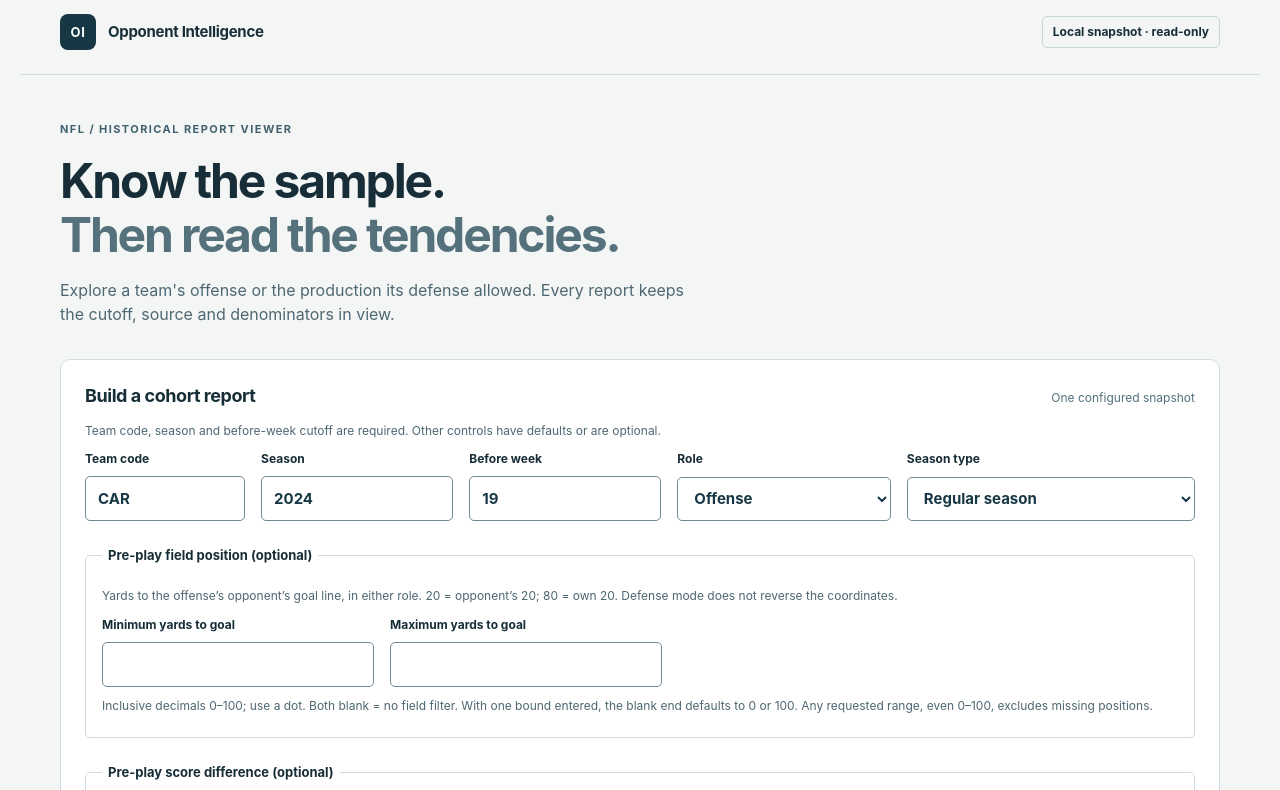
Test: field-position controls and display › shows returned bounds, separate ledgers, missing/empty states and warnings: field_defense_comparison
The image size is (1280, 790).
Replace the text in the field labelled "Team code" with "ATL" at (165, 499), box left=85, top=476, right=245, bottom=521
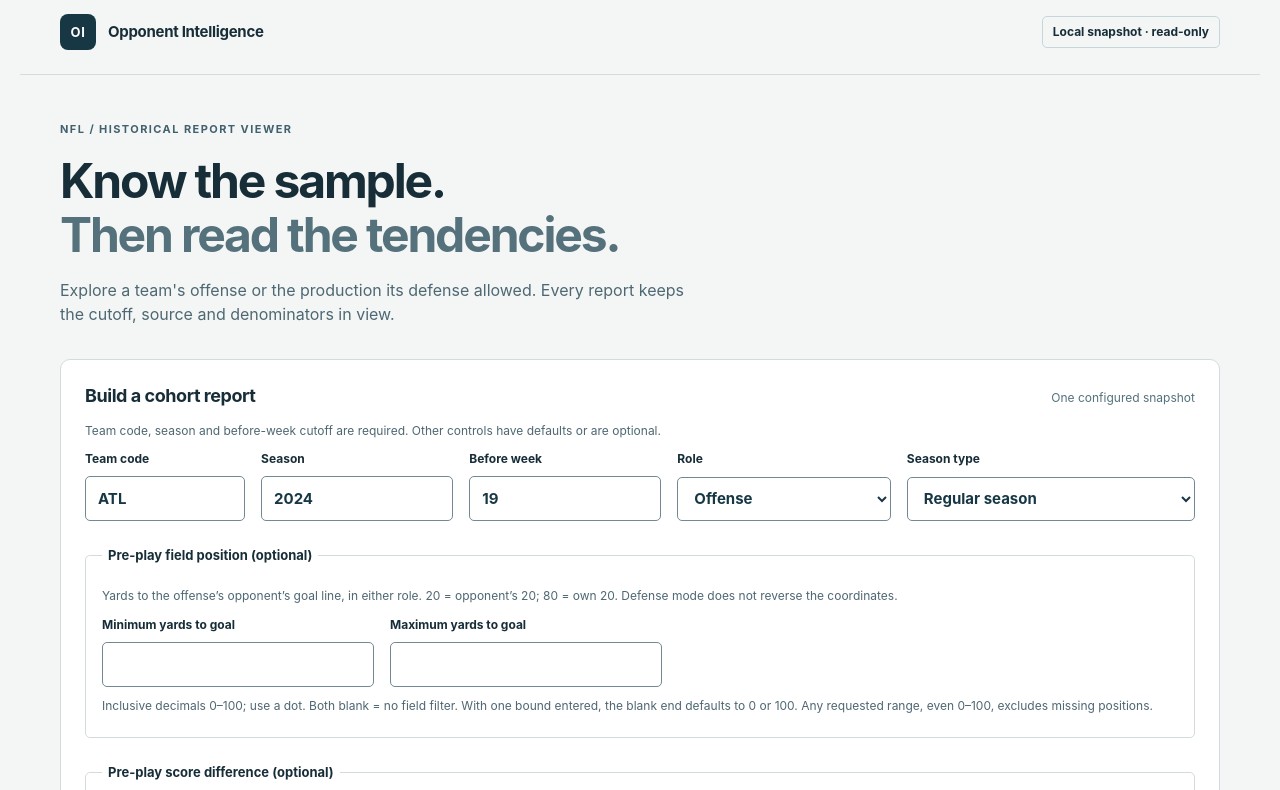
Replace the text in the number field labelled "Before week" with "3" at (565, 499), box left=469, top=476, right=661, bottom=521
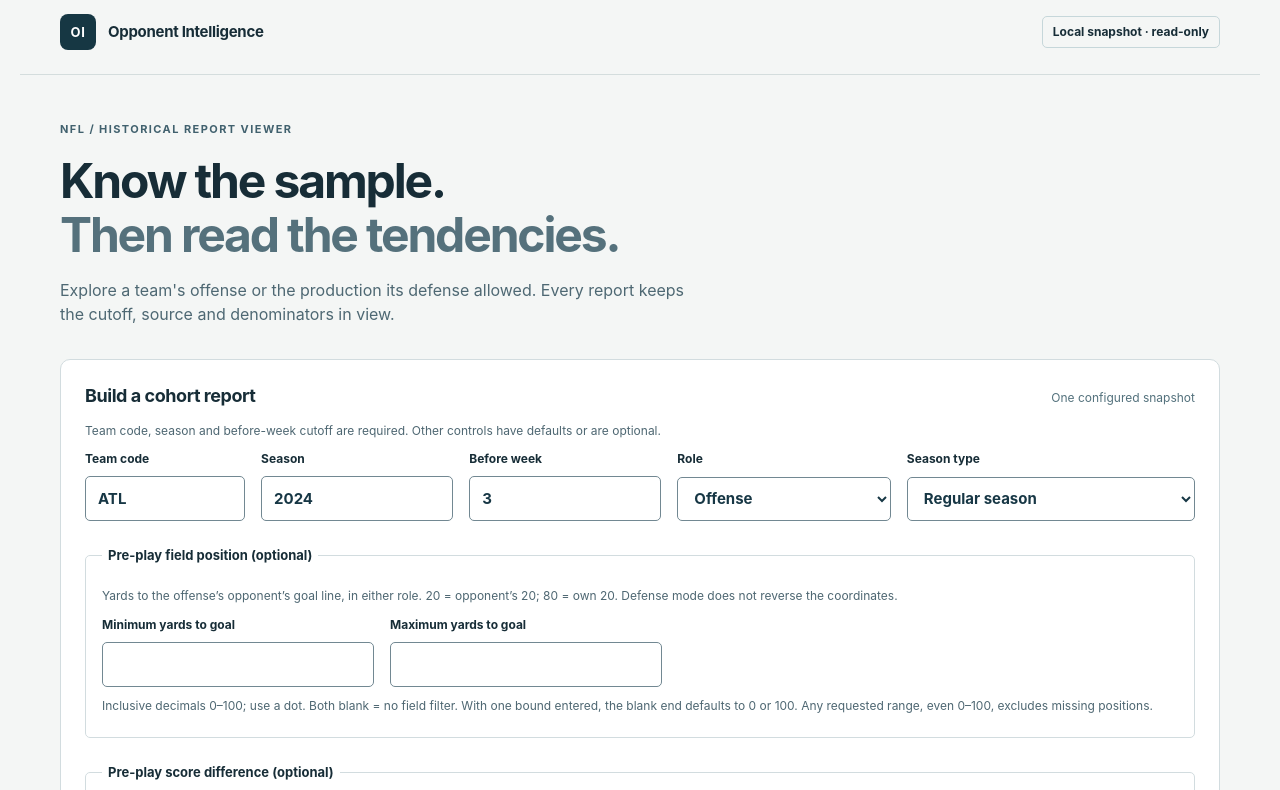
Select "Defense" in the dropdown labelled "Role" at (784, 499), box left=677, top=476, right=891, bottom=521
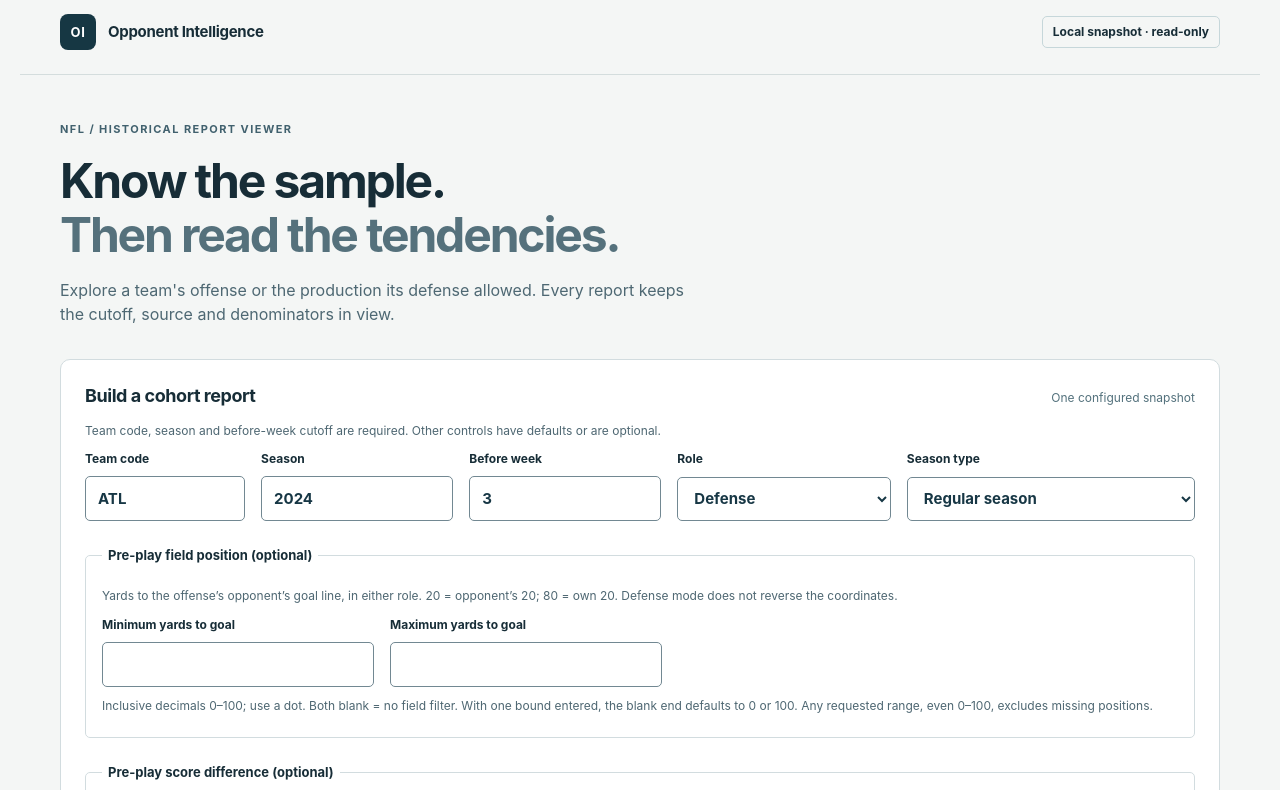
Type "20" into the field labelled "Maximum yards to goal" at (526, 664), box left=390, top=642, right=662, bottom=687
(page scrolled)
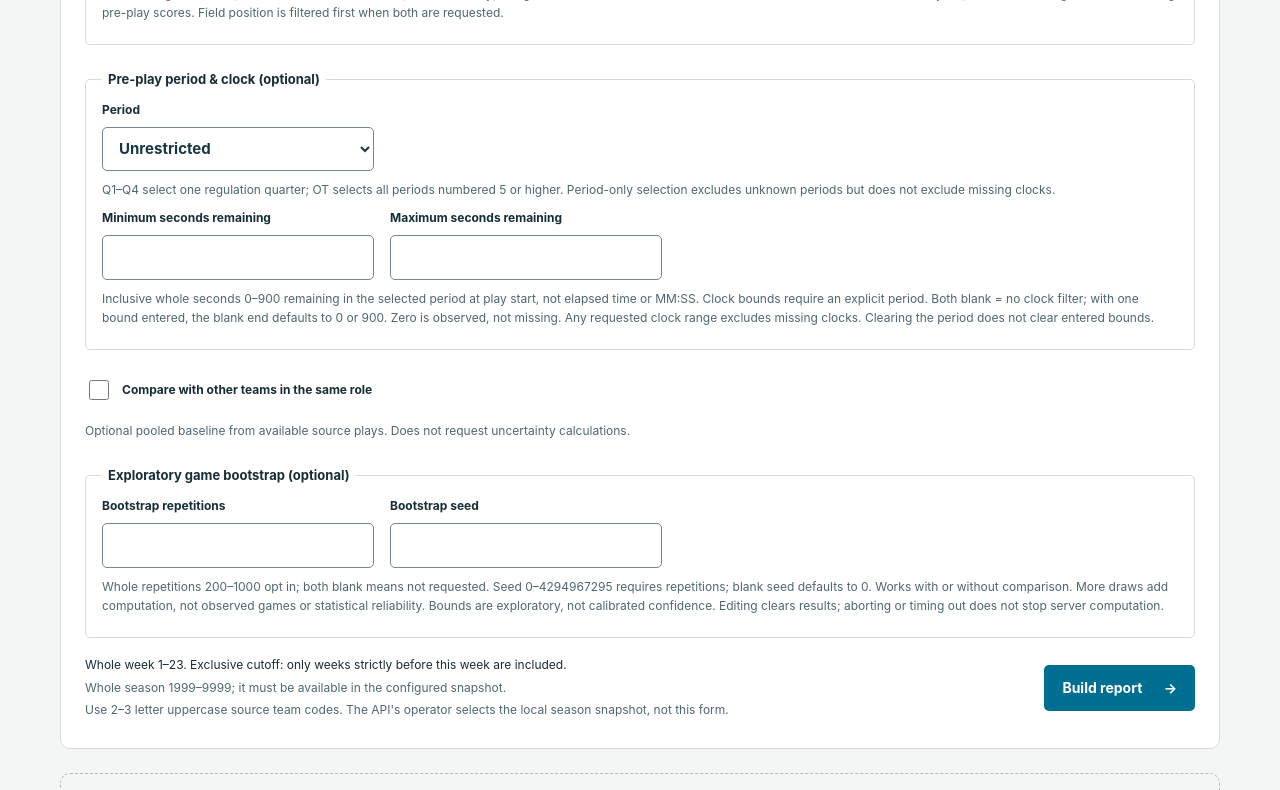
Click the checkbox at (99, 390), box left=89, top=380, right=109, bottom=400
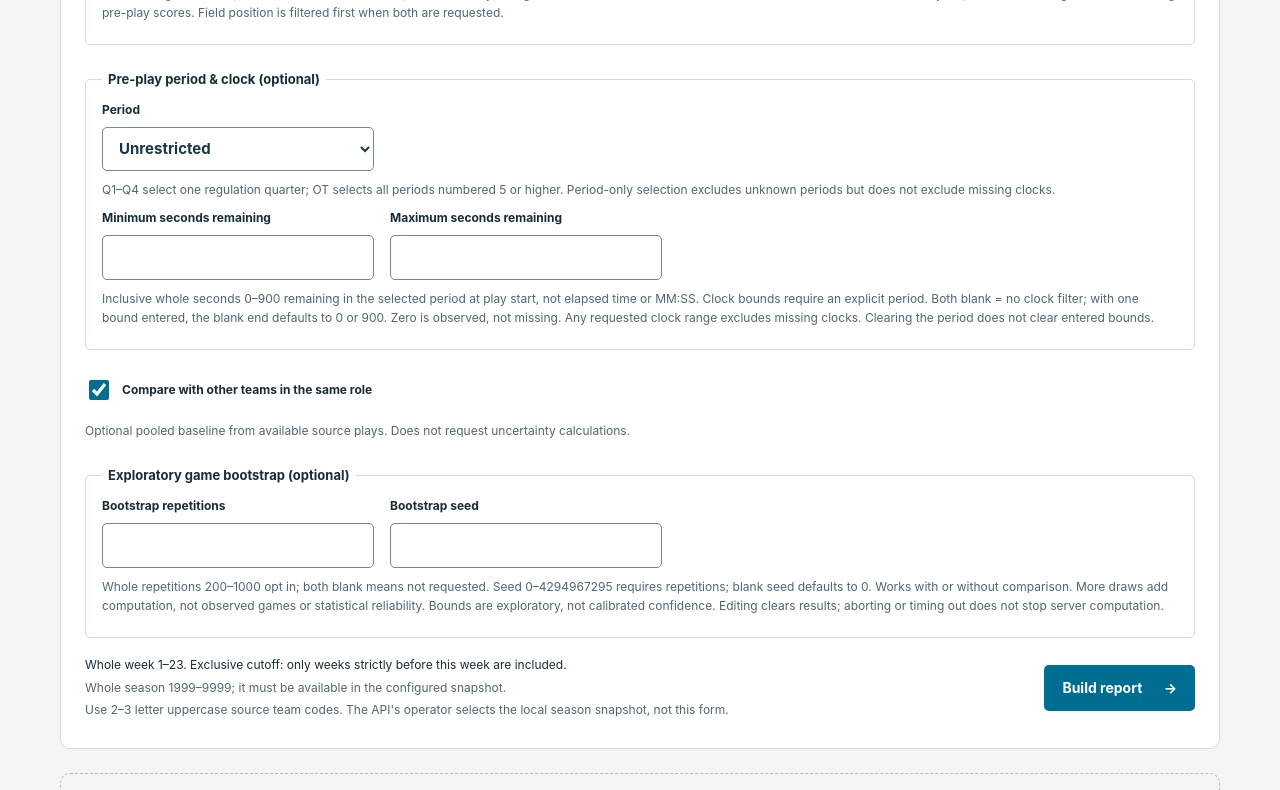
Click the button "Build report →" at (1120, 688), box left=1044, top=665, right=1195, bottom=711
(page scrolled)
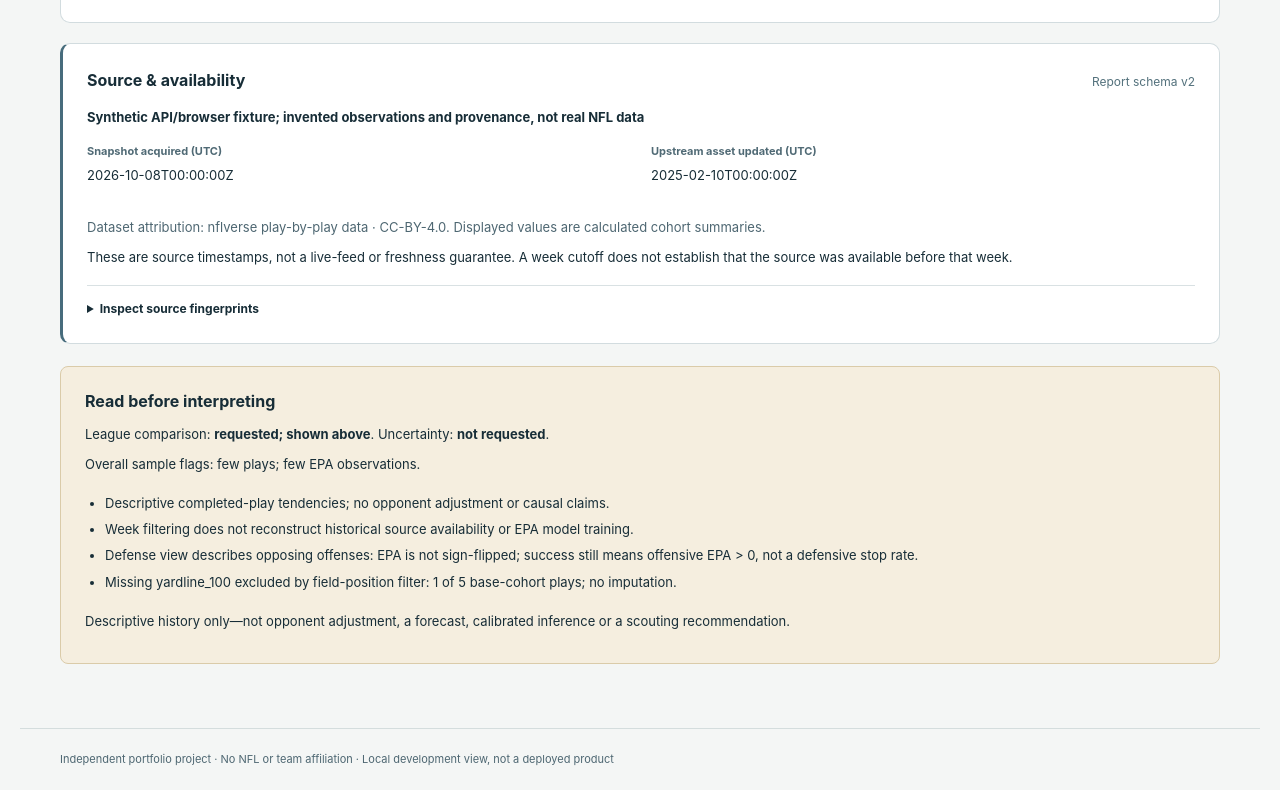
Check: the list item "Descriptive completed-play tendencies; no opponent adjustment or causal claims." is shown, box left=105, top=495, right=610, bottom=511
Check: the list item "Week filtering does not reconstruct historical source availability or EPA model training." is shown, box left=105, top=521, right=634, bottom=537
Check: the list item "Defense view describes opposing offenses: EPA is not sign-flipped; success still means offensive EPA > 0, not a defensiv" is shown, box left=105, top=547, right=918, bottom=563
